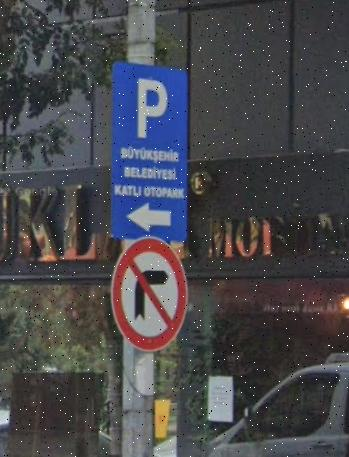rightturnsareforbidden: (110, 239, 187, 347)
